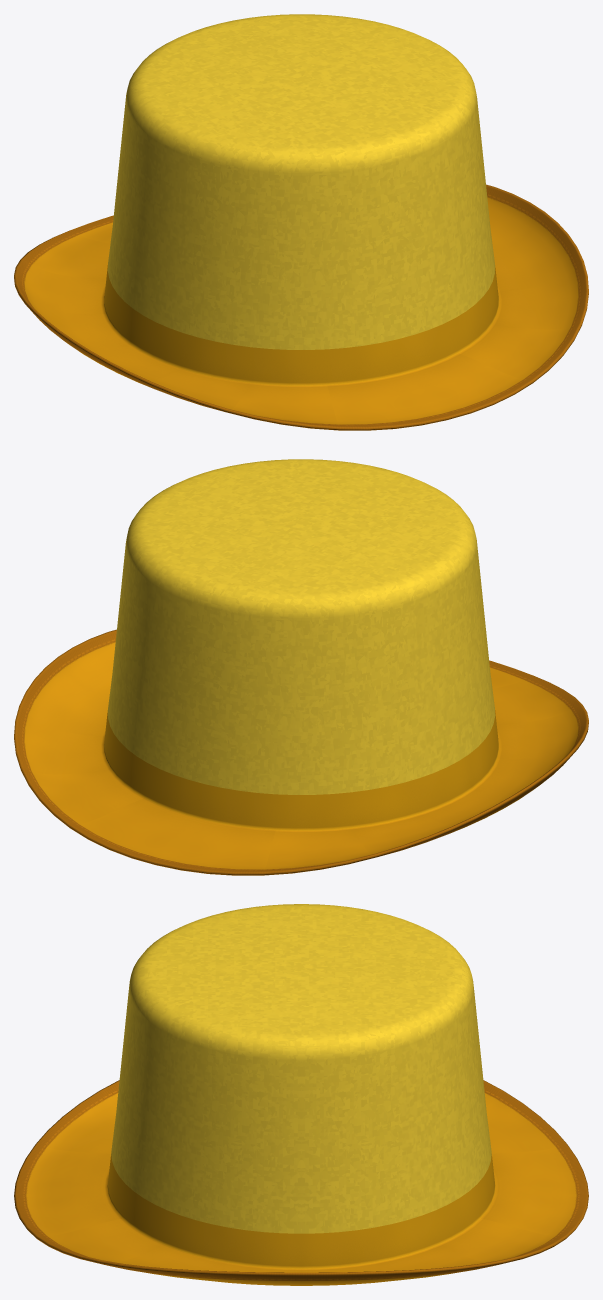
File: gold_top_hat.glb
The picture shows the model from 3 angles, top to bottom: view 1: azimuth 30°, elevation 25°; view 2: azimuth 150°, elevation 25°; view 3: azimuth 270°, elevation 25°; orthographic projection.
Parts seen in each view (by area): view 1: gold_top_hat; view 2: gold_top_hat; view 3: gold_top_hat.
Part boxes in pixels (x1=…): gold_top_hat: x1=14, y1=14, x2=588, y2=430; gold_top_hat: x1=14, y1=459, x2=588, y2=875; gold_top_hat: x1=14, y1=904, x2=588, y2=1285.
Size of the model in its own units: 0.2666 by 0.1231 by 0.277.
1 material, 1 textured.
